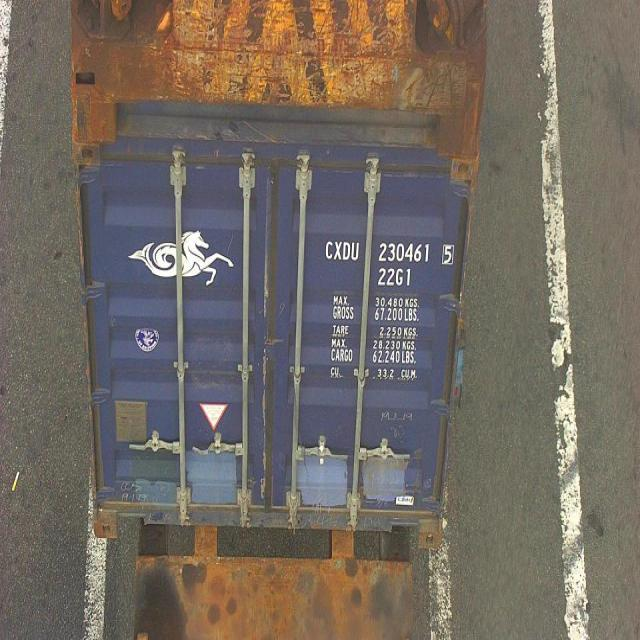ISO: (377, 268, 412, 286)
container_number: (323, 238, 455, 266)
